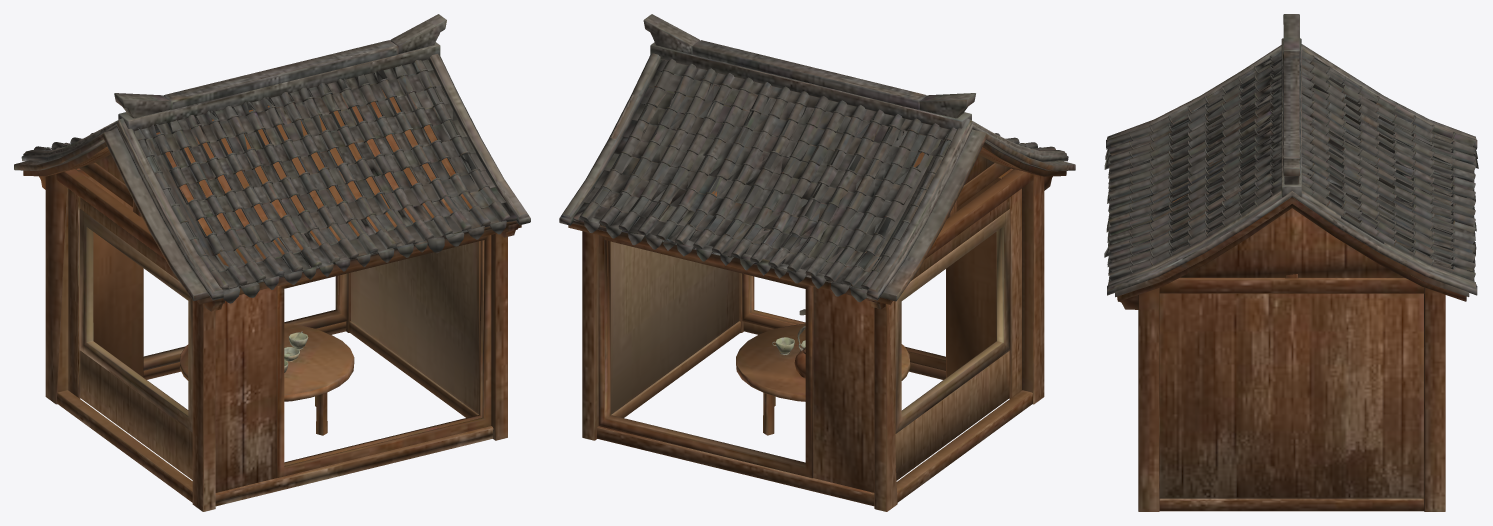
File: station_1.glb
3 renders of one model, left to right at view 1: azimuth 30°, elevation 25°; view 2: azimuth 150°, elevation 25°; view 3: azimuth 270°, elevation 25°, orthographic. The views are drawn at different scales.
Parts seen in each view (by area): view 1: tripo_node_89cdf486-2f22-4ece-9744-5ecfbc617700; view 2: tripo_node_89cdf486-2f22-4ece-9744-5ecfbc617700; view 3: tripo_node_89cdf486-2f22-4ece-9744-5ecfbc617700.
Part boxes in pixels (x1,y1,x2,y2): tripo_node_89cdf486-2f22-4ece-9744-5ecfbc617700: [14, 14, 530, 511]; tripo_node_89cdf486-2f22-4ece-9744-5ecfbc617700: [559, 14, 1075, 511]; tripo_node_89cdf486-2f22-4ece-9744-5ecfbc617700: [1104, 14, 1478, 511].
Bounding box in the file's own units: 0.9858 × 0.9995 × 0.9683.
Materials: 1 (1 with a texture image).
